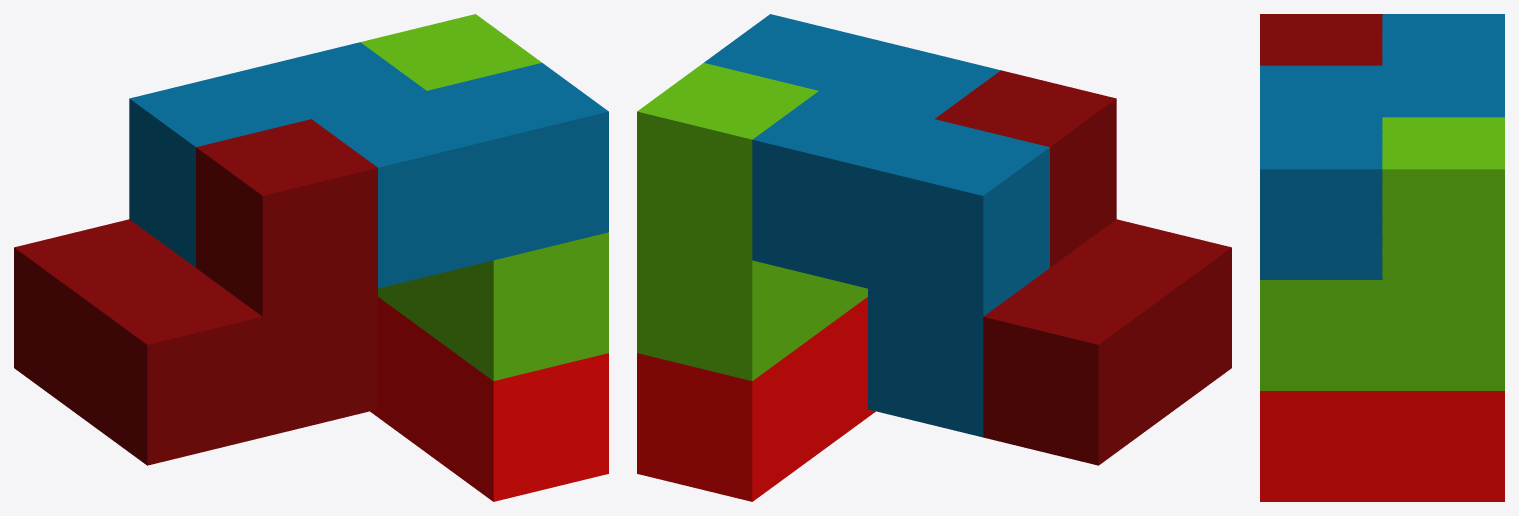
The picture shows the model from 3 angles, left to right: view 1: azimuth 30°, elevation 25°; view 2: azimuth 150°, elevation 25°; view 3: azimuth 270°, elevation 25°; orthographic projection. The views are drawn at different scales.
Parts seen in each view (by area): view 1: mergedBlocks(Clone); view 2: mergedBlocks(Clone); view 3: mergedBlocks(Clone).
Part boxes in pixels (<box>): mergedBlocks(Clone): <box>14,14,608,501</box>; mergedBlocks(Clone): <box>637,14,1231,501</box>; mergedBlocks(Clone): <box>1260,14,1504,501</box>.
Bounding box in the file's own units: 4 × 3 × 2.
Materials: 4 (4 with a texture image).
